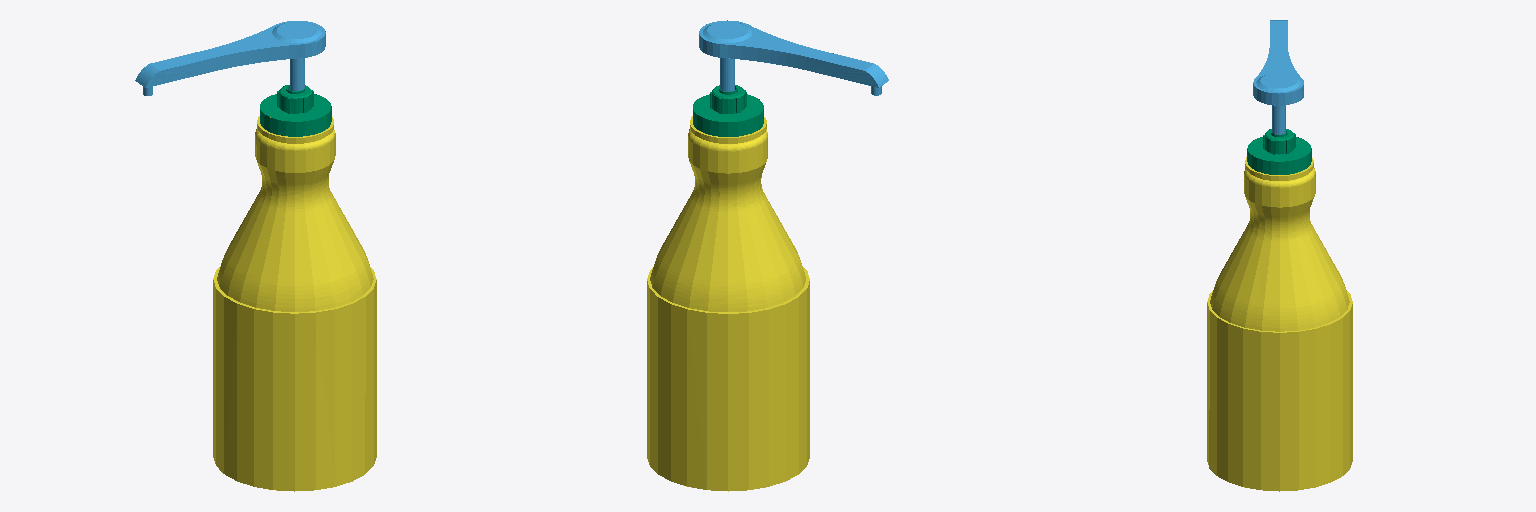
URDF robot description (partnet_6ff509da-bd03-4a9c-b719-4fca6a0ae4ae-0):
<?xml version="1.0" ?>
<robot name="partnet_6ff509da-bd03-4a9c-b719-4fca6a0ae4ae-0">
	<link name="base"/>
	<link name="link_0">
		<visual name="pressing_lid-1">
			<origin xyz="-0.004094500000000001 0 0.012681168178382465"/>
			<geometry>
				<mesh filename="textured_objs/original_31.obj"/>
			</geometry>
		</visual>
		<visual name="pressing_lid-1">
			<origin xyz="-0.004094500000000001 0 0.012681168178382465"/>
			<geometry>
				<mesh filename="textured_objs/original_32.obj"/>
			</geometry>
		</visual>
		<visual name="pressing_lid-1">
			<origin xyz="-0.004094500000000001 0 0.012681168178382465"/>
			<geometry>
				<mesh filename="textured_objs/original_29.obj"/>
			</geometry>
		</visual>
		<visual name="pressing_lid-1">
			<origin xyz="-0.004094500000000001 0 0.012681168178382465"/>
			<geometry>
				<mesh filename="textured_objs/original_33.obj"/>
			</geometry>
		</visual>
		<visual name="pressing_lid-1">
			<origin xyz="-0.004094500000000001 0 0.012681168178382465"/>
			<geometry>
				<mesh filename="textured_objs/original_34.obj"/>
			</geometry>
		</visual>
		<visual name="pressing_lid-1">
			<origin xyz="-0.004094500000000001 0 0.012681168178382465"/>
			<geometry>
				<mesh filename="textured_objs/original_37.obj"/>
			</geometry>
		</visual>
		<visual name="pressing_lid-1">
			<origin xyz="-0.004094500000000001 0 0.012681168178382465"/>
			<geometry>
				<mesh filename="textured_objs/original_38.obj"/>
			</geometry>
		</visual>
		<visual name="pressing_lid-1">
			<origin xyz="-0.004094500000000001 0 0.012681168178382465"/>
			<geometry>
				<mesh filename="textured_objs/original_35.obj"/>
			</geometry>
		</visual>
		<visual name="pressing_lid-1">
			<origin xyz="-0.004094500000000001 0 0.012681168178382465"/>
			<geometry>
				<mesh filename="textured_objs/original_36.obj"/>
			</geometry>
		</visual>
		<collision>
			<origin xyz="-0.004094500000000001 0 0.012681168178382465"/>
			<geometry>
				<mesh filename="textured_objs/original_31.obj"/>
			</geometry>
		</collision>
		<collision>
			<origin xyz="-0.004094500000000001 0 0.012681168178382465"/>
			<geometry>
				<mesh filename="textured_objs/original_32.obj"/>
			</geometry>
		</collision>
		<collision>
			<origin xyz="-0.004094500000000001 0 0.012681168178382465"/>
			<geometry>
				<mesh filename="textured_objs/original_29.obj"/>
			</geometry>
		</collision>
		<collision>
			<origin xyz="-0.004094500000000001 0 0.012681168178382465"/>
			<geometry>
				<mesh filename="textured_objs/original_33.obj"/>
			</geometry>
		</collision>
		<collision>
			<origin xyz="-0.004094500000000001 0 0.012681168178382465"/>
			<geometry>
				<mesh filename="textured_objs/original_34.obj"/>
			</geometry>
		</collision>
		<collision>
			<origin xyz="-0.004094500000000001 0 0.012681168178382465"/>
			<geometry>
				<mesh filename="textured_objs/original_37.obj"/>
			</geometry>
		</collision>
		<collision>
			<origin xyz="-0.004094500000000001 0 0.012681168178382465"/>
			<geometry>
				<mesh filename="textured_objs/original_38.obj"/>
			</geometry>
		</collision>
		<collision>
			<origin xyz="-0.004094500000000001 0 0.012681168178382465"/>
			<geometry>
				<mesh filename="textured_objs/original_35.obj"/>
			</geometry>
		</collision>
		<collision>
			<origin xyz="-0.004094500000000001 0 0.012681168178382465"/>
			<geometry>
				<mesh filename="textured_objs/original_36.obj"/>
			</geometry>
		</collision>
	</link>
	<joint name="joint_0" type="continuous">
		<origin xyz="0.0 0 0.0"/>
		<axis xyz="0 1 0"/>
		<child link="link_0"/>
		<parent link="link_0_helper"/>
	</joint>
	<link name="link_1">
		<visual name="head-4">
			<origin xyz="0.0004264269753747104 0 0.006867144079346001"/>
			<geometry>
				<mesh filename="textured_objs/original_16.obj"/>
			</geometry>
		</visual>
		<visual name="head-4">
			<origin xyz="0.0004264269753747104 0 0.006867144079346001"/>
			<geometry>
				<mesh filename="textured_objs/original_17.obj"/>
			</geometry>
		</visual>
		<visual name="head-4">
			<origin xyz="0.0004264269753747104 0 0.006867144079346001"/>
			<geometry>
				<mesh filename="textured_objs/original_15.obj"/>
			</geometry>
		</visual>
		<visual name="head-4">
			<origin xyz="0.0004264269753747104 0 0.006867144079346001"/>
			<geometry>
				<mesh filename="textured_objs/original_20.obj"/>
			</geometry>
		</visual>
		<visual name="head-4">
			<origin xyz="0.0004264269753747104 0 0.006867144079346001"/>
			<geometry>
				<mesh filename="textured_objs/original_18.obj"/>
			</geometry>
		</visual>
		<visual name="head-4">
			<origin xyz="0.0004264269753747104 0 0.006867144079346001"/>
			<geometry>
				<mesh filename="textured_objs/original_23.obj"/>
			</geometry>
		</visual>
		<visual name="head-4">
			<origin xyz="0.0004264269753747104 0 0.006867144079346001"/>
			<geometry>
				<mesh filename="textured_objs/original_19.obj"/>
			</geometry>
		</visual>
		<visual name="head-4">
			<origin xyz="0.0004264269753747104 0 0.006867144079346001"/>
			<geometry>
				<mesh filename="textured_objs/original_21.obj"/>
			</geometry>
		</visual>
		<visual name="head-4">
			<origin xyz="0.0004264269753747104 0 0.006867144079346001"/>
			<geometry>
				<mesh filename="textured_objs/original_25.obj"/>
			</geometry>
		</visual>
		<visual name="head-4">
			<origin xyz="0.0004264269753747104 0 0.006867144079346001"/>
			<geometry>
				<mesh filename="textured_objs/original_24.obj"/>
			</geometry>
		</visual>
		<collision>
			<origin xyz="0.0004264269753747104 0 0.006867144079346001"/>
			<geometry>
				<mesh filename="textured_objs/original_16.obj"/>
			</geometry>
		</collision>
		<collision>
			<origin xyz="0.0004264269753747104 0 0.006867144079346001"/>
			<geometry>
				<mesh filename="textured_objs/original_17.obj"/>
			</geometry>
		</collision>
		<collision>
			<origin xyz="0.0004264269753747104 0 0.006867144079346001"/>
			<geometry>
				<mesh filename="textured_objs/original_15.obj"/>
			</geometry>
		</collision>
		<collision>
			<origin xyz="0.0004264269753747104 0 0.006867144079346001"/>
			<geometry>
				<mesh filename="textured_objs/original_20.obj"/>
			</geometry>
		</collision>
		<collision>
			<origin xyz="0.0004264269753747104 0 0.006867144079346001"/>
			<geometry>
				<mesh filename="textured_objs/original_18.obj"/>
			</geometry>
		</collision>
		<collision>
			<origin xyz="0.0004264269753747104 0 0.006867144079346001"/>
			<geometry>
				<mesh filename="textured_objs/original_23.obj"/>
			</geometry>
		</collision>
		<collision>
			<origin xyz="0.0004264269753747104 0 0.006867144079346001"/>
			<geometry>
				<mesh filename="textured_objs/original_19.obj"/>
			</geometry>
		</collision>
		<collision>
			<origin xyz="0.0004264269753747104 0 0.006867144079346001"/>
			<geometry>
				<mesh filename="textured_objs/original_21.obj"/>
			</geometry>
		</collision>
		<collision>
			<origin xyz="0.0004264269753747104 0 0.006867144079346001"/>
			<geometry>
				<mesh filename="textured_objs/original_25.obj"/>
			</geometry>
		</collision>
		<collision>
			<origin xyz="0.0004264269753747104 0 0.006867144079346001"/>
			<geometry>
				<mesh filename="textured_objs/original_24.obj"/>
			</geometry>
		</collision>
	</link>
	<joint name="joint_1" type="continuous">
		<origin xyz="0.0 0 0.0"/>
		<axis xyz="0 -1 0"/>
		<child link="link_1"/>
		<parent link="link_1_helper"/>
	</joint>
	<link name="link_2">
		<visual name="base_body-6">
			<origin xyz="0 0 0"/>
			<geometry>
				<mesh filename="textured_objs/original_4.obj"/>
			</geometry>
		</visual>
		<visual name="base_body-6">
			<origin xyz="0 0 0"/>
			<geometry>
				<mesh filename="textured_objs/original_3.obj"/>
			</geometry>
		</visual>
		<visual name="base_body-6">
			<origin xyz="0 0 0"/>
			<geometry>
				<mesh filename="textured_objs/original_9.obj"/>
			</geometry>
		</visual>
		<visual name="base_body-6">
			<origin xyz="0 0 0"/>
			<geometry>
				<mesh filename="textured_objs/original_6.obj"/>
			</geometry>
		</visual>
		<visual name="base_body-6">
			<origin xyz="0 0 0"/>
			<geometry>
				<mesh filename="textured_objs/original_11.obj"/>
			</geometry>
		</visual>
		<visual name="base_body-6">
			<origin xyz="0 0 0"/>
			<geometry>
				<mesh filename="textured_objs/original_7.obj"/>
			</geometry>
		</visual>
		<visual name="base_body-6">
			<origin xyz="0 0 0"/>
			<geometry>
				<mesh filename="textured_objs/original_10.obj"/>
			</geometry>
		</visual>
		<visual name="base_body-6">
			<origin xyz="0 0 0"/>
			<geometry>
				<mesh filename="textured_objs/original_14.obj"/>
			</geometry>
		</visual>
		<collision>
			<origin xyz="0 0 0"/>
			<geometry>
				<mesh filename="textured_objs/original_4.obj"/>
			</geometry>
		</collision>
		<collision>
			<origin xyz="0 0 0"/>
			<geometry>
				<mesh filename="textured_objs/original_3.obj"/>
			</geometry>
		</collision>
		<collision>
			<origin xyz="0 0 0"/>
			<geometry>
				<mesh filename="textured_objs/original_9.obj"/>
			</geometry>
		</collision>
		<collision>
			<origin xyz="0 0 0"/>
			<geometry>
				<mesh filename="textured_objs/original_6.obj"/>
			</geometry>
		</collision>
		<collision>
			<origin xyz="0 0 0"/>
			<geometry>
				<mesh filename="textured_objs/original_11.obj"/>
			</geometry>
		</collision>
		<collision>
			<origin xyz="0 0 0"/>
			<geometry>
				<mesh filename="textured_objs/original_7.obj"/>
			</geometry>
		</collision>
		<collision>
			<origin xyz="0 0 0"/>
			<geometry>
				<mesh filename="textured_objs/original_10.obj"/>
			</geometry>
		</collision>
		<collision>
			<origin xyz="0 0 0"/>
			<geometry>
				<mesh filename="textured_objs/original_14.obj"/>
			</geometry>
		</collision>
	</link>
	<joint name="joint_2" type="fixed">
		<origin rpy="1.570796326794897 0 -1.570796326794897" xyz="0 0 0"/>
		<child link="link_2"/>
		<parent link="base"/>
	</joint>
	<link name="link_0_helper">
		<inertial>
			<origin xyz="0 0 0"/>
			<mass value="1e-6"/>
			<inertia ixx="1e-10" ixy="0" ixz="0" iyy="1e-10" iyz="0" izz="1e-10"/>
		</inertial>
	</link>
	<joint name="joint_3" type="prismatic">
		<origin xyz="0.004520926975374711 0 -0.005814024099036464"/>
		<axis xyz="0 -1 0"/>
		<child link="link_0_helper"/>
		<parent link="link_1"/>
		<limit lower="0" upper="0.04"/>
	</joint>
	<link name="link_1_helper">
		<inertial>
			<origin xyz="0 0 0"/>
			<mass value="1e-6"/>
			<inertia ixx="1e-10" ixy="0" ixz="0" iyy="1e-10" iyz="0" izz="1e-10"/>
		</inertial>
	</link>
	<joint name="joint_4" type="prismatic">
		<origin xyz="-0.0004264269753747104 0 -0.006867144079346001"/>
		<axis xyz="0 1 0"/>
		<child link="link_1_helper"/>
		<parent link="link_2"/>
		<limit lower="0" upper="0.052"/>
	</joint>
</robot>

--- What the picture shows (computed from the rendered views, not written in the file) ---
3 views of the same robot in one strip: view 1: azimuth 30°, elevation 25°; view 2: azimuth 150°, elevation 25°; view 3: azimuth 270°, elevation 25° (orthographic).
Robot: partnet_6ff509da-bd03-4a9c-b719-4fca6a0ae4ae-0 — 6 links, 5 joints (2 continuous, 2 prismatic, 1 fixed); root link base; default pose: every joint at zero.
Visible links, largest first — view 1: link_2, link_0, link_1; view 2: link_2, link_0, link_1; view 3: link_2, link_0, link_1.
Link boxes in pixels (x1,y1,x2,y2): link_2: [213, 116, 376, 491]; link_0: [135, 21, 325, 95]; link_1: [260, 85, 331, 136]; link_2: [647, 116, 809, 491]; link_0: [699, 20, 888, 95]; link_1: [693, 85, 763, 136]; link_2: [1207, 157, 1352, 491]; link_0: [1253, 20, 1303, 134]; link_1: [1247, 129, 1311, 174].
Size in the robot's own frame: 0.8425 by 0.5277 by 1.52 metres.
Meshes: 27 distinct files referenced, 27 mesh visuals loaded (27 OBJ).
